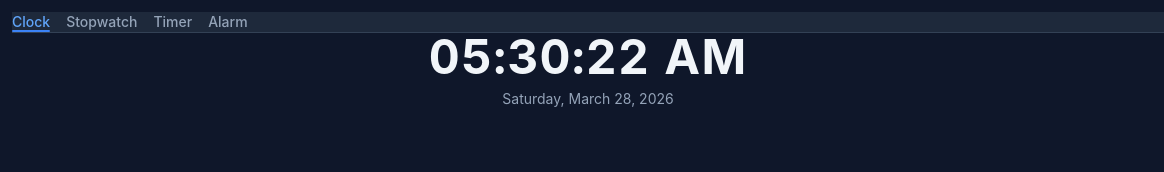
Clock › switches to stopwatch tab
The width and height of the screenshot is (1164, 172).
Click the button "Stopwatch". click: (102, 22)
box: [66,12,137,32]
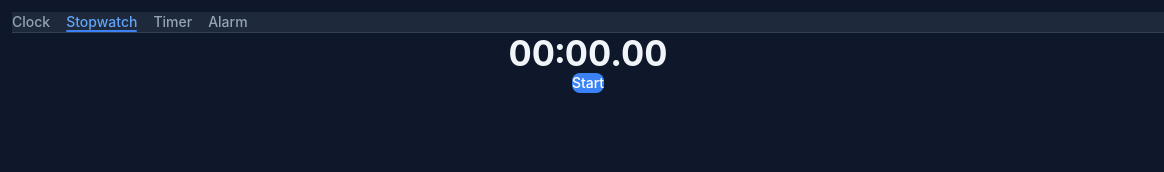
Expected: the text "00:00.00" is shown, [508,33,668,73]
